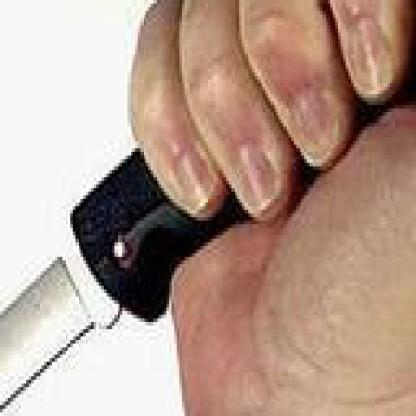knife: (0, 0, 336, 413)
